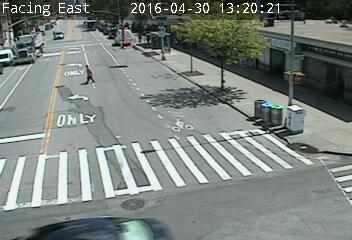neg: (290, 96, 313, 127), (260, 95, 282, 124), (173, 111, 187, 130), (98, 18, 112, 36), (3, 29, 16, 47), (53, 23, 66, 40), (266, 9, 278, 24), (159, 59, 169, 73), (109, 58, 119, 71)
pos: (80, 62, 98, 85), (143, 33, 155, 49)
